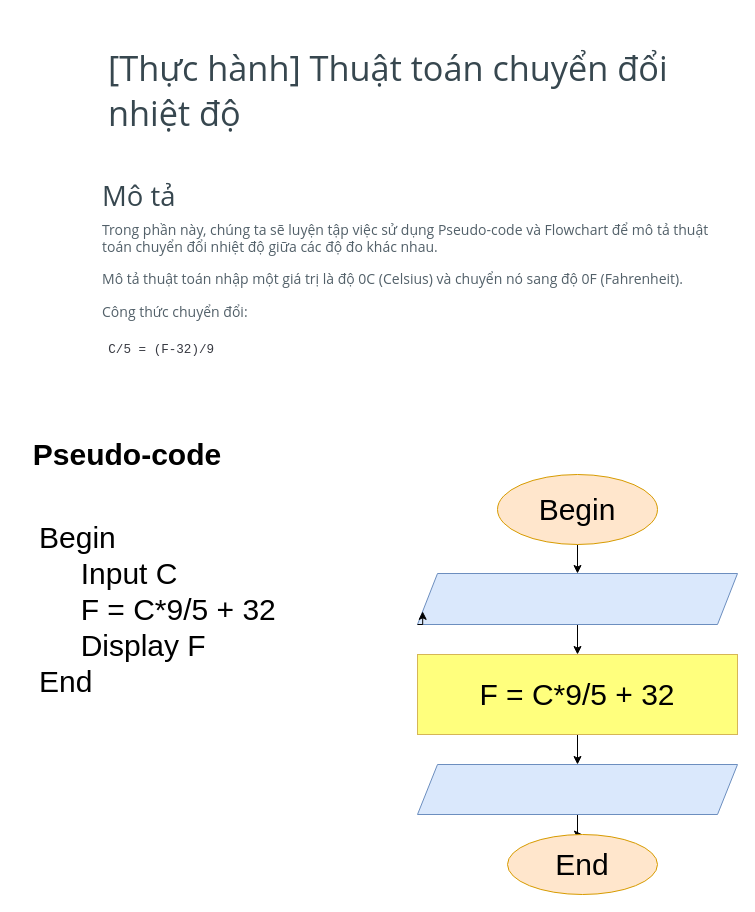
This 755x912 diagram has some shape labels left out. The shapes that lost their labels are listed below. From the top down, each one's centre as x and y in pixels, then its label:
[577,598]: Input C
[577,789]: Display F
